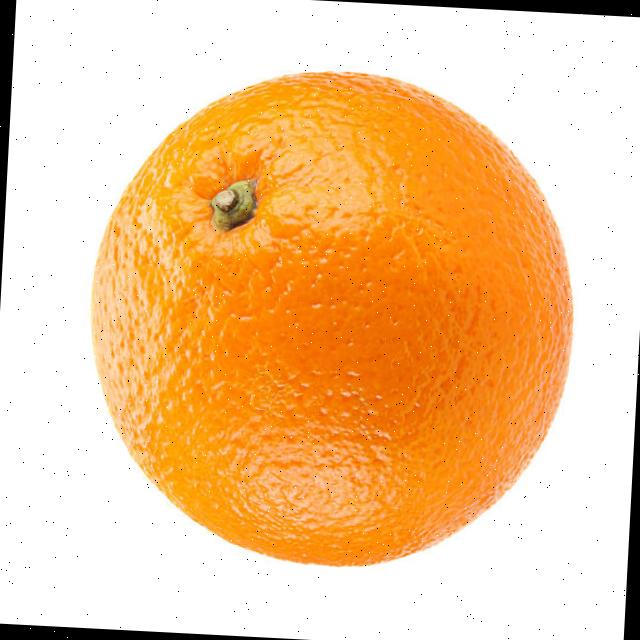Ripe: (74, 53, 588, 580)
